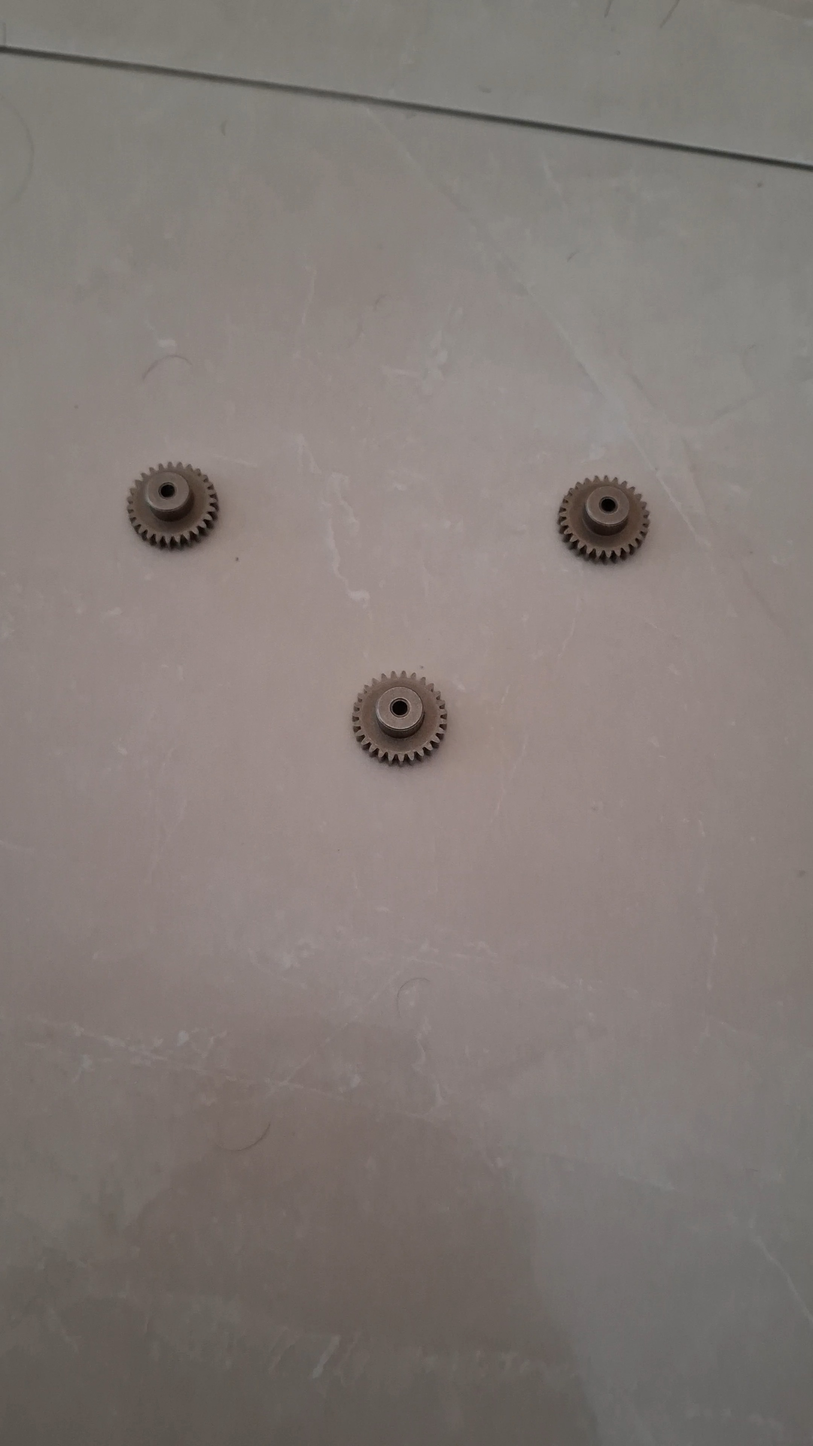spur gear: (352, 672, 447, 764), (558, 477, 649, 562), (127, 464, 218, 547)
